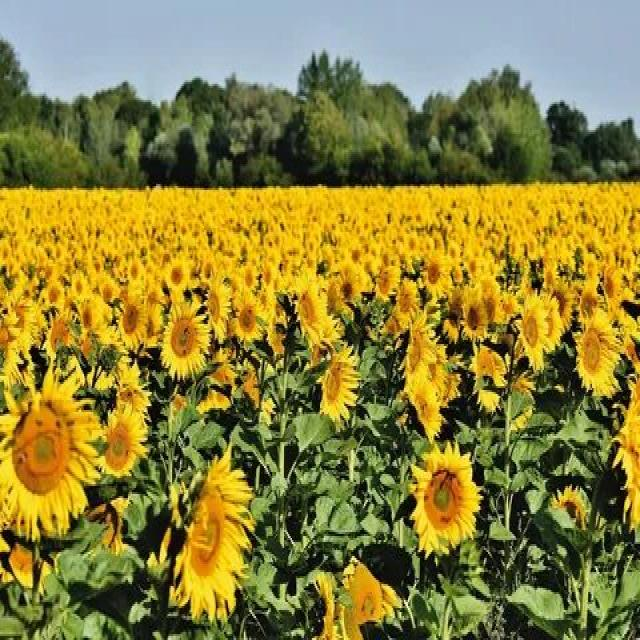sunflower: (4, 354, 101, 560), (175, 450, 262, 634), (403, 442, 485, 552), (569, 304, 627, 404), (159, 290, 213, 384), (95, 394, 153, 480), (316, 338, 363, 428), (508, 290, 552, 372), (232, 288, 268, 348), (40, 306, 80, 358), (420, 252, 448, 300), (163, 256, 193, 294), (372, 260, 399, 302)
